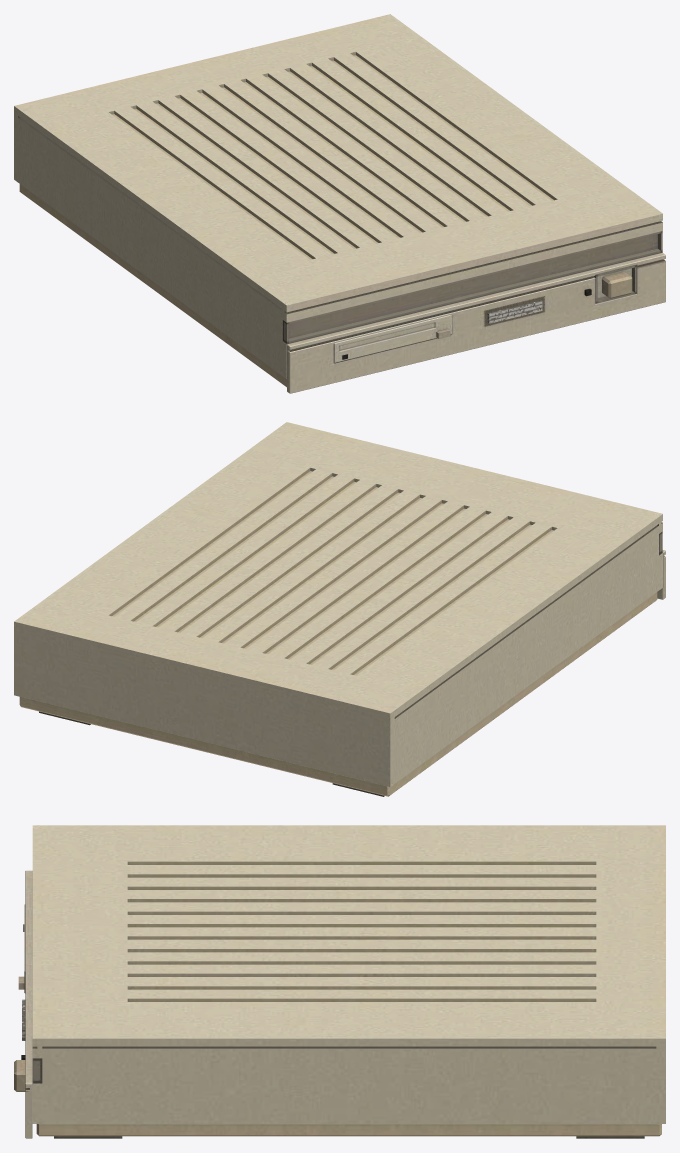
Rendered from pizzabox-b.glb.
The picture shows the model from 3 angles, top to bottom: view 1: azimuth 30°, elevation 25°; view 2: azimuth 150°, elevation 25°; view 3: azimuth 270°, elevation 25°; orthographic projection. The views are drawn at different scales.
Parts seen in each view (by area): view 1: case-baked; view 2: case-baked; view 3: case-baked.
Boxes of the visible parts, x1,y1,x2,y2 form: case-baked: (14,14,665,393); case-baked: (14,422,665,796); case-baked: (14,825,665,1138).
Size of the model in its own units: 0.31 by 0.074 by 0.4005.
1 material, 1 textured.
